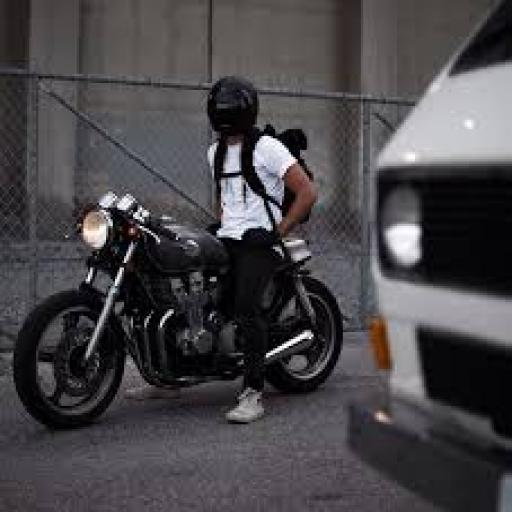helmet: (11, 187, 343, 429), (201, 72, 318, 424), (203, 72, 259, 132)
